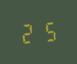five: (38, 20, 56, 42)
two: (19, 21, 37, 44)
